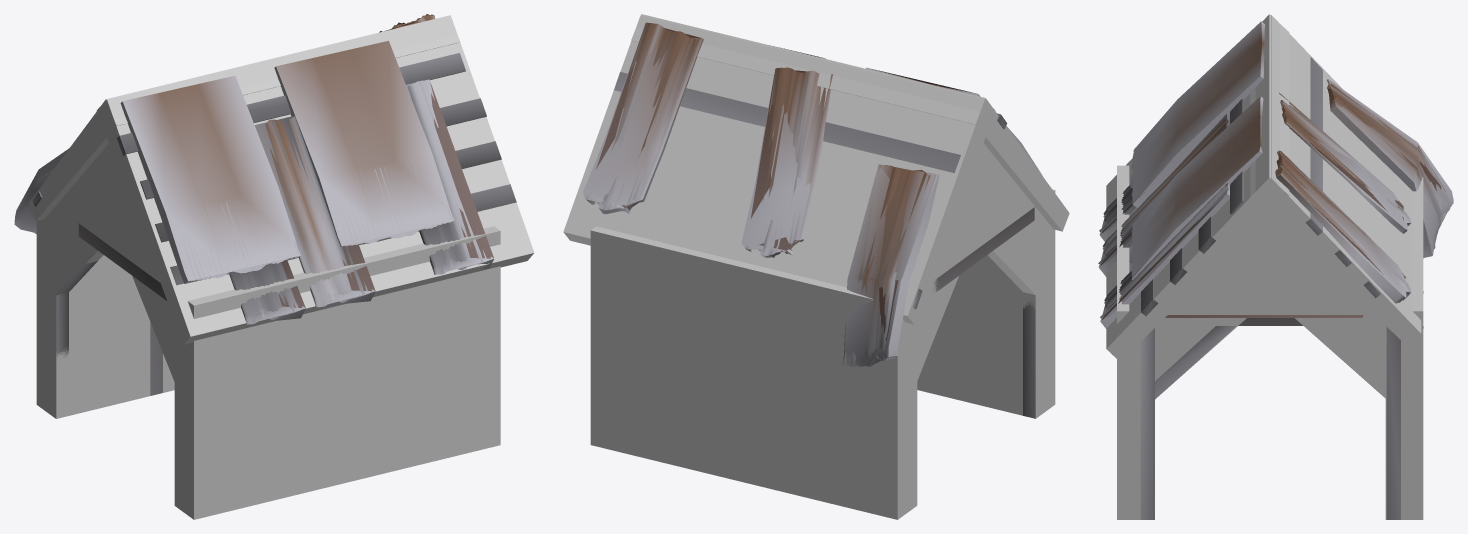
File: ut_old_shed_v2.DAE
The picture shows the model from 3 angles, left to right: view 1: azimuth 30°, elevation 25°; view 2: azimuth 150°, elevation 25°; view 3: azimuth 270°, elevation 25°; orthographic projection. The views are drawn at different scales.
Visible parts, largest first — view 1: Colmesh-1, OldShedV2_a150, OldShedV2_a200, OldShedV2_a50; view 2: Colmesh-1, OldShedV2_a200, OldShedV2_a150, OldShedV2_a50; view 3: Colmesh-1, OldShedV2_a200, OldShedV2_a150, OldShedV2_a50.
Boxes of the visible parts, x1=… form: Colmesh-1: x1=14, y1=15, x2=534, y2=519; OldShedV2_a150: x1=122, y1=41, x2=453, y2=280; OldShedV2_a200: x1=32, y1=14, x2=516, y2=395; OldShedV2_a50: x1=278, y1=21, x2=493, y2=308; Colmesh-1: x1=563, y1=14, x2=1069, y2=519; OldShedV2_a200: x1=585, y1=22, x2=1035, y2=418; OldShedV2_a150: x1=583, y1=30, x2=937, y2=365; OldShedV2_a50: x1=596, y1=28, x2=973, y2=363; Colmesh-1: x1=1099, y1=14, x2=1448, y2=519; OldShedV2_a200: x1=1098, y1=42, x2=1453, y2=519; OldShedV2_a150: x1=1132, y1=21, x2=1451, y2=296; OldShedV2_a50: x1=1100, y1=107, x2=1445, y2=319.
Size of the model in its own units: 6.16 by 5.63 by 6.22.
